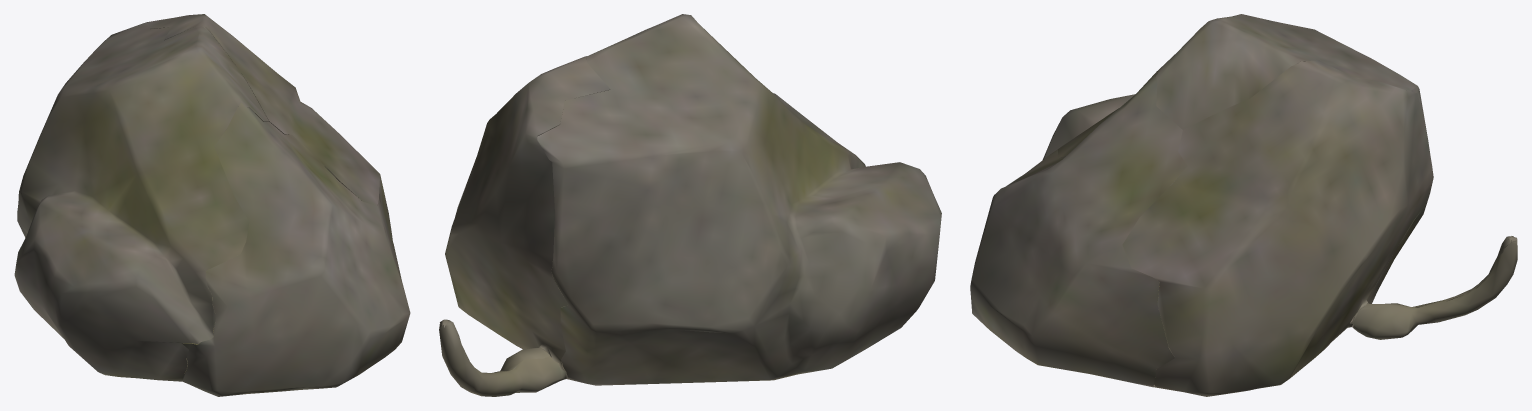
The model's file is rock_formation_01_lod2.glb.
3 views of the same model, side by side, from view 1: azimuth 30°, elevation 25°; view 2: azimuth 150°, elevation 25°; view 3: azimuth 270°, elevation 25° (orthographic). The views are drawn at different scales.
Parts seen in each view (by area): view 1: candidate_017_lod2; view 2: candidate_017_lod2; view 3: candidate_017_lod2.
Part boxes in pixels (x1,y1,x2,y2): candidate_017_lod2: [14, 14, 410, 396]; candidate_017_lod2: [439, 14, 941, 396]; candidate_017_lod2: [970, 14, 1517, 396].
Bounding box in the file's own units: 0.1194 × 0.0835 × 0.1454.
Materials: 1 (1 with a texture image).
